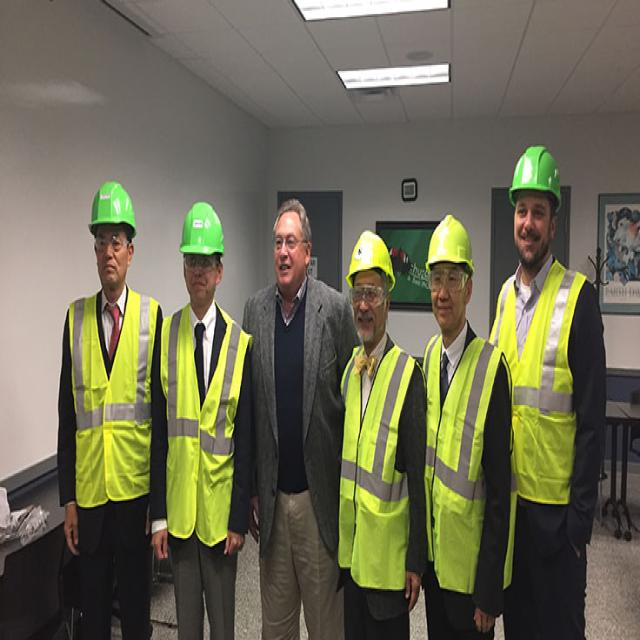helmet: (505, 138, 569, 271), (343, 227, 400, 352), (424, 209, 481, 332), (86, 177, 142, 295), (179, 198, 228, 310)
vest: (483, 266, 620, 514), (418, 329, 520, 611), (333, 347, 424, 601), (64, 293, 158, 511), (161, 308, 246, 546)
